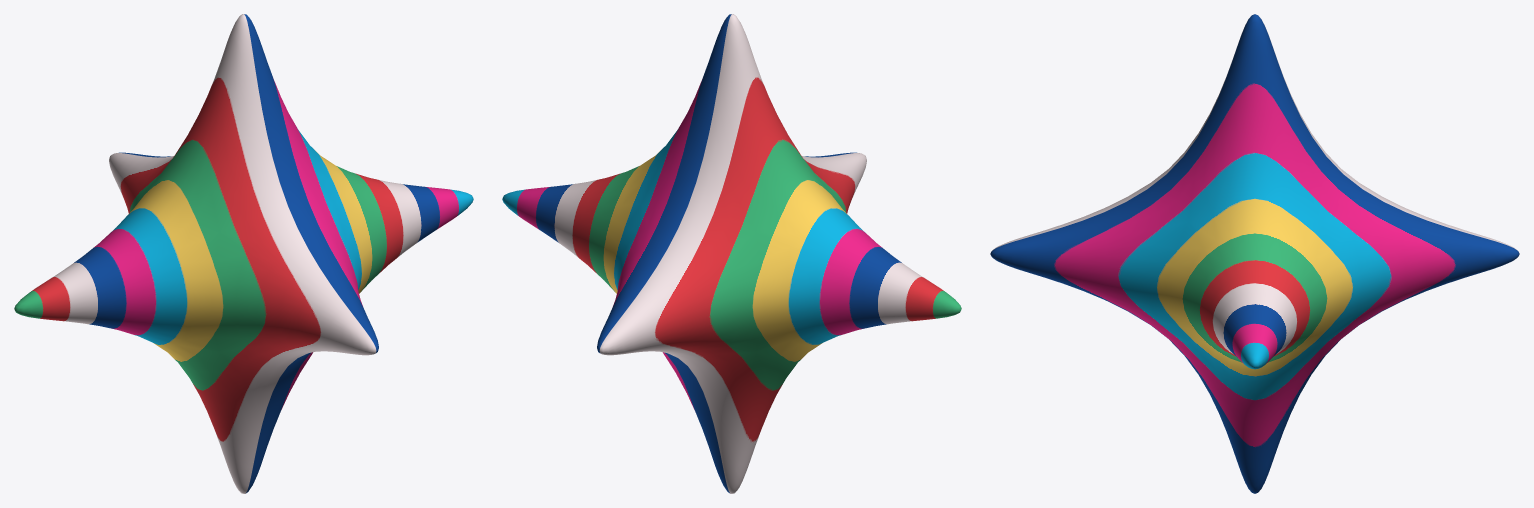
Rendered from B-4_Onstick.fbx.
3 renders of one model, left to right at view 1: azimuth 30°, elevation 25°; view 2: azimuth 150°, elevation 25°; view 3: azimuth 270°, elevation 25°, orthographic.
Parts seen in each view (by area): view 1: B-4; view 2: B-4; view 3: B-4.
Part boxes in pixels (left/top/right/bottom): B-4: left=14, top=14, right=473, bottom=493; B-4: left=502, top=14, right=961, bottom=493; B-4: left=990, top=14, right=1519, bottom=493.
Bounding box in the file's own units: 1.35 × 1.35 × 1.35.
1 material, 1 textured.
